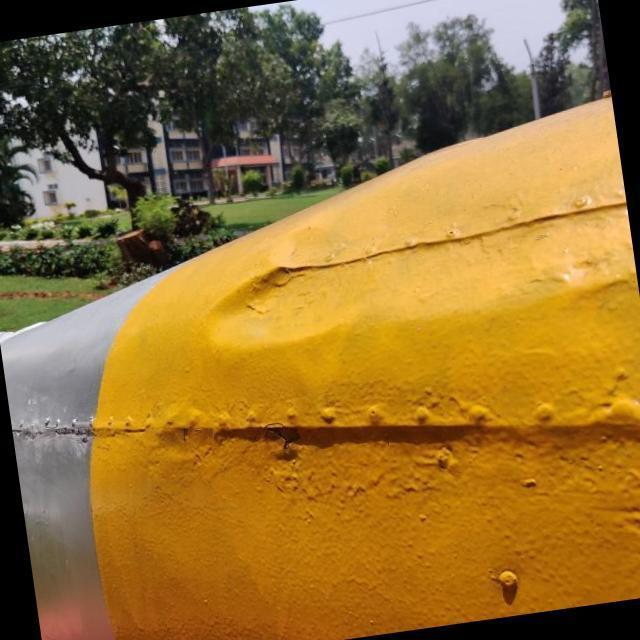Dent: (176, 238, 366, 383)
